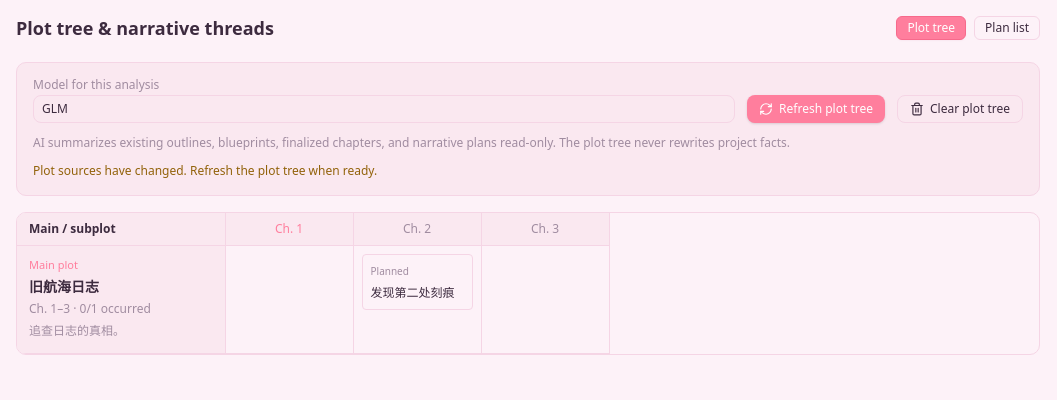
Test: NarrativeThreadEditor › shows an English incomplete-generation reason for a Chinese project
Click the button "Refresh plot tree" at (816, 109), box x1=747 y1=95 x2=885 y2=123
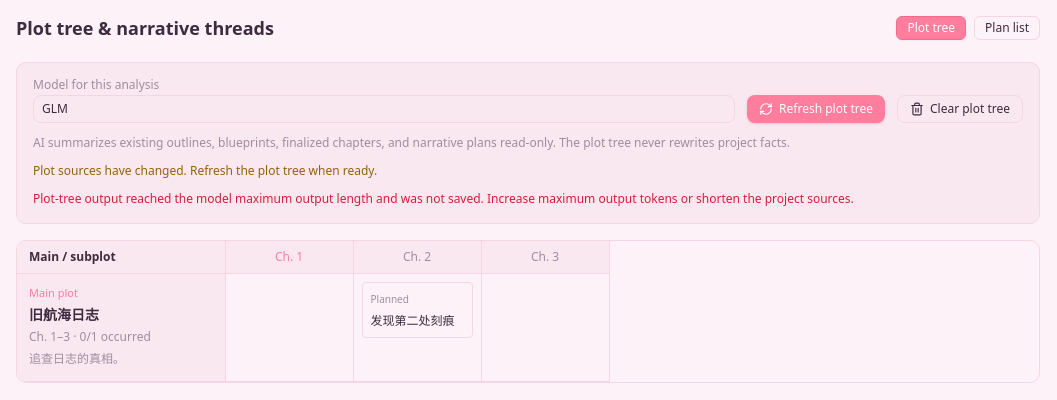
Expected: the text "Plot-tree output reached the model maximum output length and was not saved." is shown, x1=33 y1=190 x2=854 y2=207
